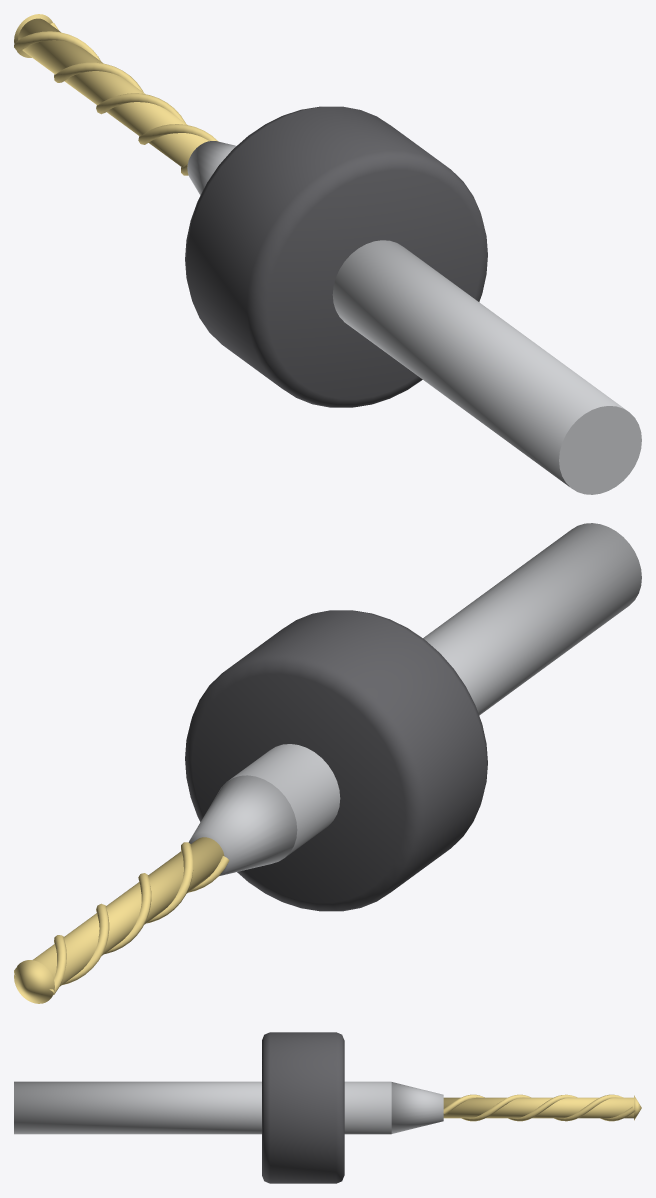
File: drill18_1p6.glb
The picture shows the model from 3 angles, top to bottom: view 1: azimuth 30°, elevation 25°; view 2: azimuth 150°, elevation 25°; view 3: azimuth 270°, elevation 25°; orthographic projection. The views are drawn at different scales.
Visible parts, largest first — view 1: Cylinder.002, Cylinder.001, Cylinder, flute.001, flute, Cone; view 2: Cylinder.002, Cylinder.001, Cone, Cylinder, flute.001, flute, Cone.001; view 3: Cylinder.001, Cylinder.002, Cylinder, Cone, flute, flute.001.
Boxes of the visible parts, x1=… form: Cylinder.002: x1=185, y1=106, x2=487, y2=407; Cylinder.001: x1=332, y1=240, x2=641, y2=494; Cylinder: x1=18, y1=18, x2=209, y2=168; flute.001: x1=14, y1=31, x2=188, y2=175; flute: x1=50, y1=23, x2=218, y2=144; Cone: x1=187, y1=141, x2=236, y2=195; Cylinder.002: x1=185, y1=610, x2=487, y2=911; Cylinder.001: x1=228, y1=523, x2=641, y2=857; Cone: x1=188, y1=775, x2=297, y2=875; Cylinder: x1=32, y1=837, x2=224, y2=986; flute.001: x1=49, y1=856, x2=229, y2=994; flute: x1=14, y1=842, x2=193, y2=984; Cone.001: x1=14, y1=960, x2=54, y2=1003; Cylinder.001: x1=14, y1=1081, x2=391, y2=1134; Cylinder.002: x1=262, y1=1032, x2=344, y2=1183; Cylinder: x1=443, y1=1097, x2=633, y2=1118; Cone: x1=391, y1=1082, x2=443, y2=1133; flute: x1=443, y1=1094, x2=634, y2=1121; flute.001: x1=461, y1=1094, x2=623, y2=1121.
Bounding box in the file's own units: 0.00917 × 0.00917 × 0.038.
